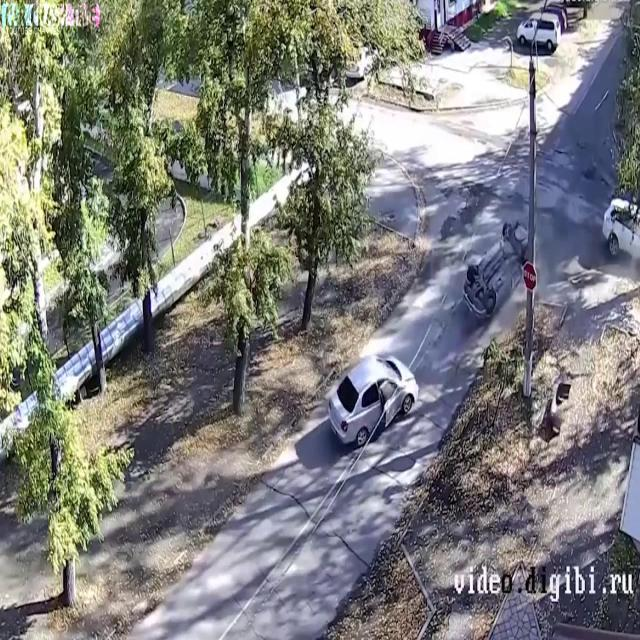accident: (456, 207, 537, 325)
